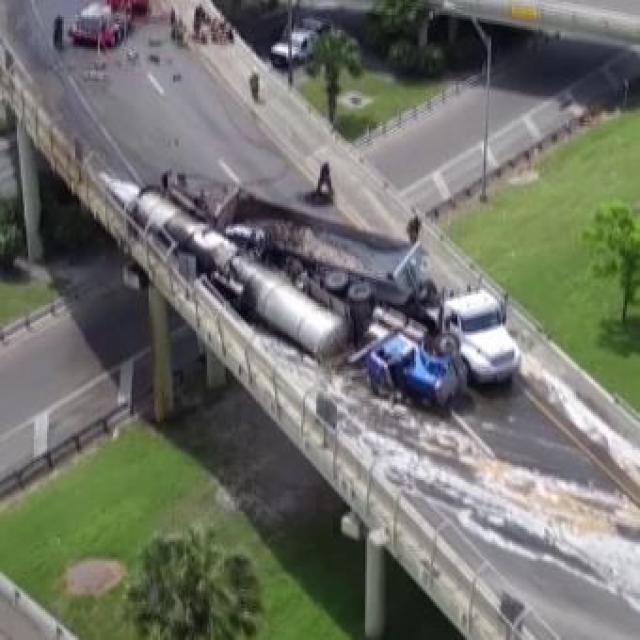traffic_incident: (111, 147, 535, 405)
